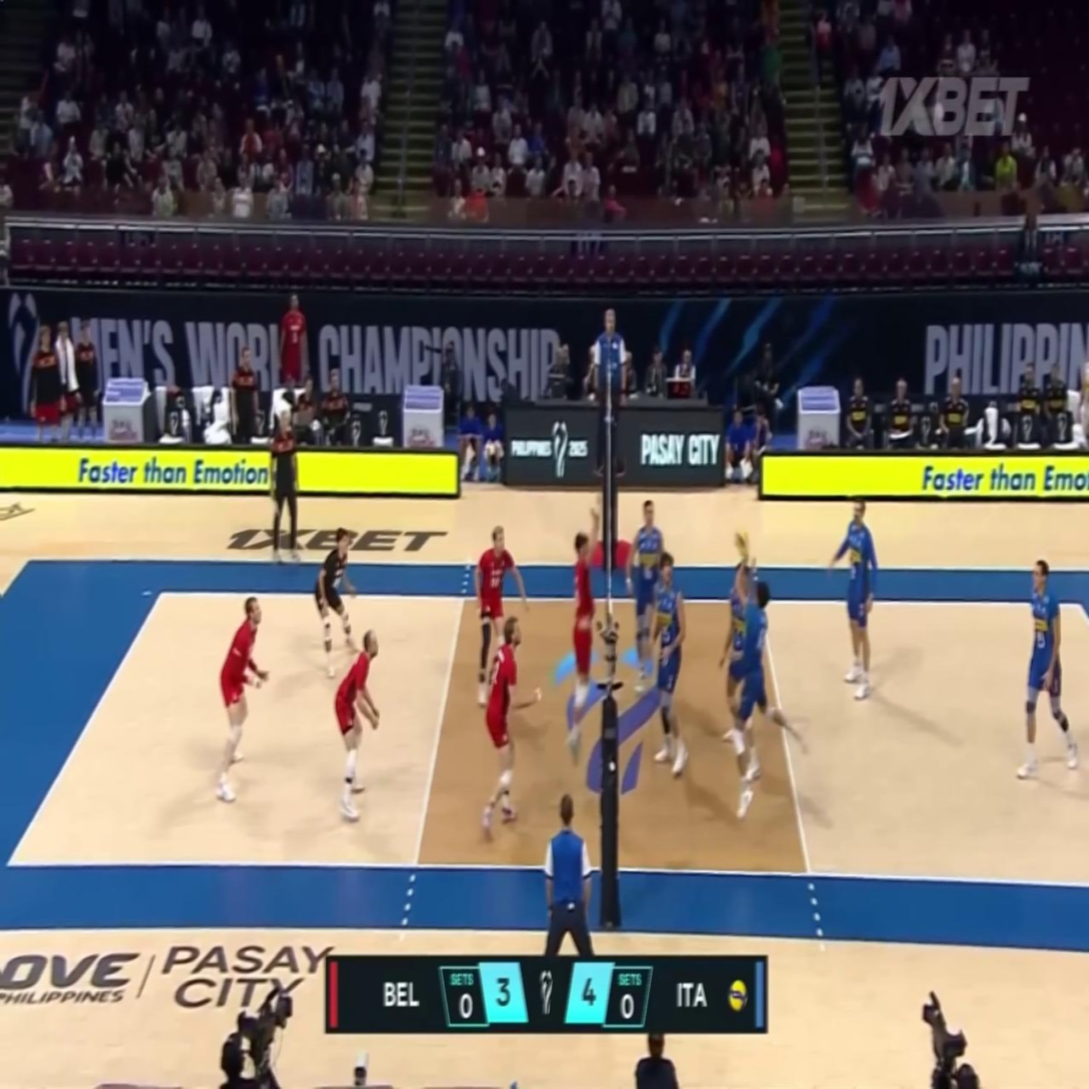ball: (733, 529, 748, 554)
